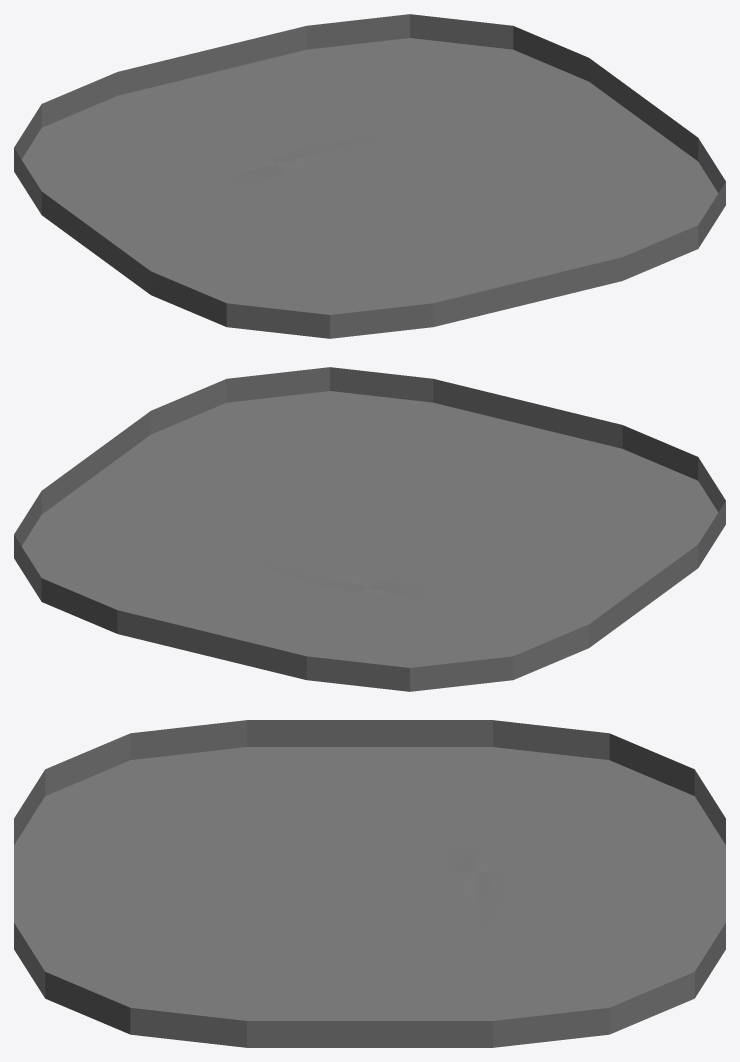
Rendered from spot-light.fbx.
3 views of the same model, one above another, from view 1: azimuth 30°, elevation 25°; view 2: azimuth 150°, elevation 25°; view 3: azimuth 270°, elevation 25° (orthographic). The views are drawn at different scales.
Parts seen in each view (by area): view 1: Spot; view 2: Spot; view 3: Spot.
Boxes of the visible parts, box(x1,y1,x2,y2) form: Spot: box(14, 14, 725, 338); Spot: box(14, 367, 725, 691); Spot: box(14, 720, 725, 1047).
Bounding box in the file's own units: 12 × 0.6 × 12.
